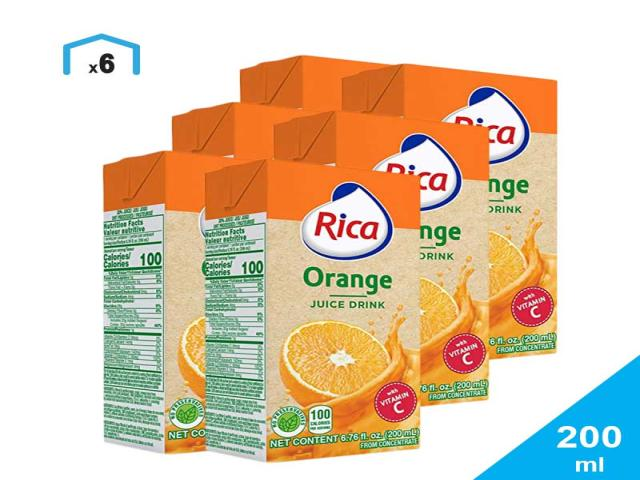drink_box: (211, 153, 424, 456), (98, 152, 204, 455)
